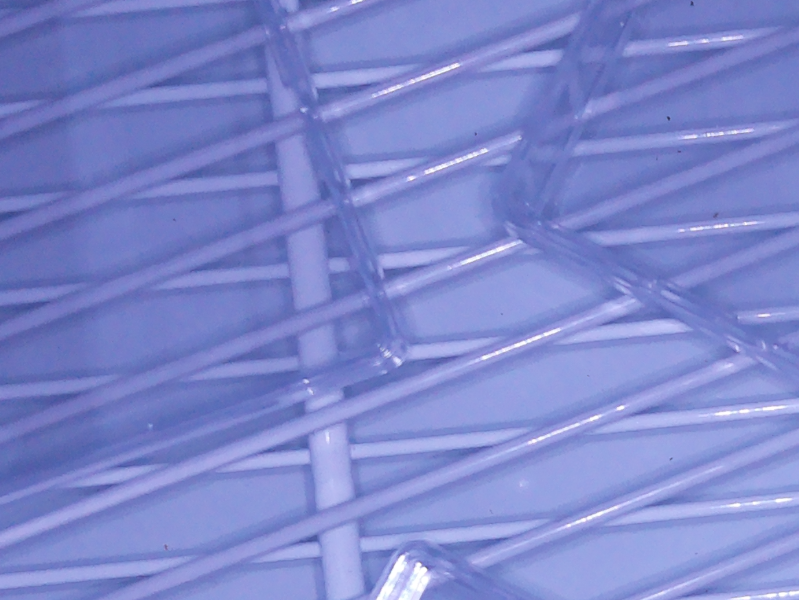plate: (1, 1, 410, 510), (496, 1, 799, 377), (374, 540, 516, 600)
